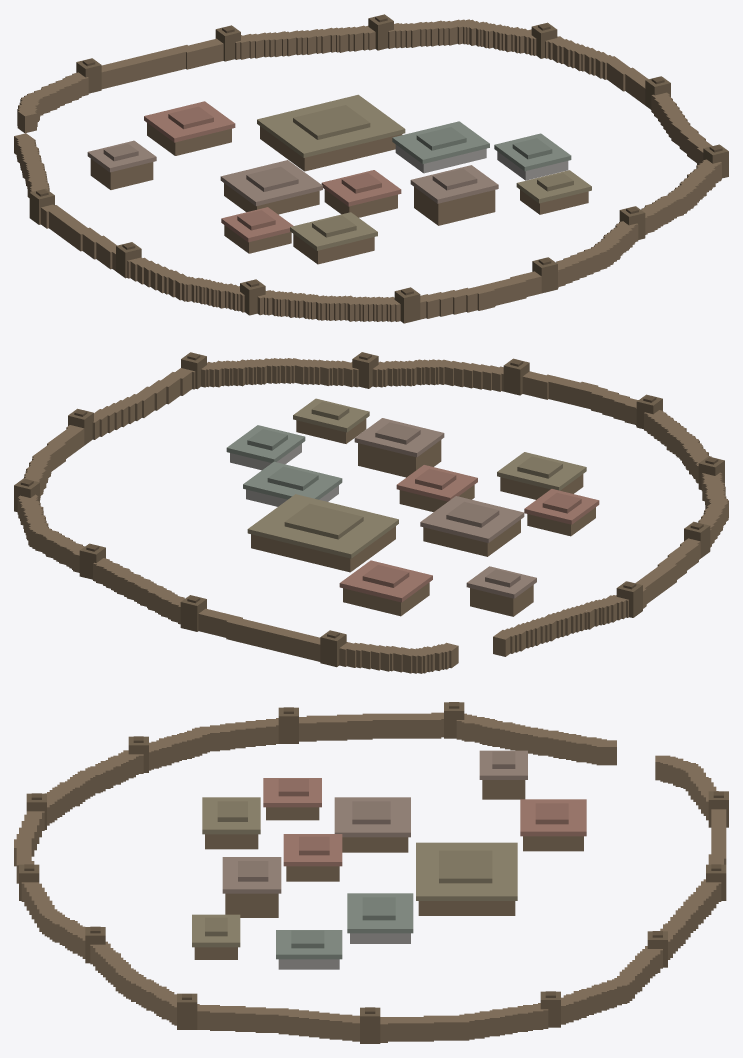
The model's file is ciudad_poblado_orco_poi_2603_2084_01.glb.
3 renders of one model, top to bottom at view 1: azimuth 30°, elevation 25°; view 2: azimuth 150°, elevation 25°; view 3: azimuth 270°, elevation 25°, orthographic. The views are drawn at different scales.
Visible parts, largest first — view 1: ciudad_poblado_orco_poi_2603_2084; view 2: ciudad_poblado_orco_poi_2603_2084; view 3: ciudad_poblado_orco_poi_2603_2084.
Part boxes in pixels (box(x1,y1,x2,y2)): ciudad_poblado_orco_poi_2603_2084: box(14, 14, 728, 323); ciudad_poblado_orco_poi_2603_2084: box(14, 352, 728, 673); ciudad_poblado_orco_poi_2603_2084: box(14, 702, 728, 1043).
Bounding box in the file's own units: 73 × 3.75 × 70.25.
